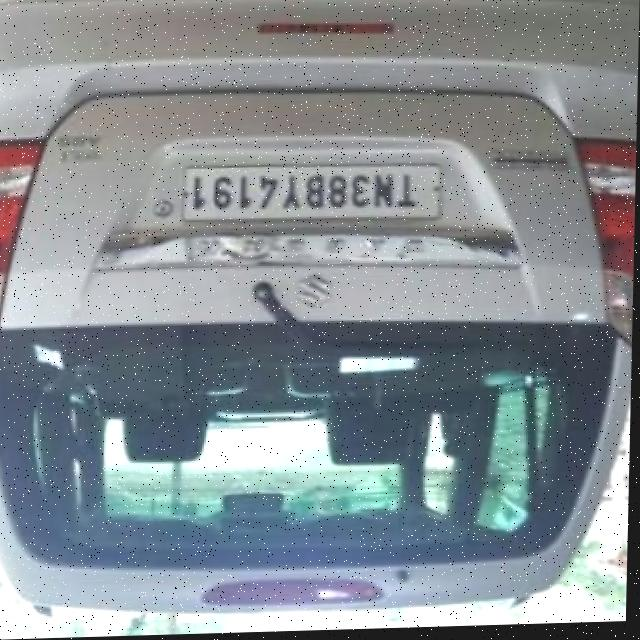plate: (182, 162, 446, 231)
